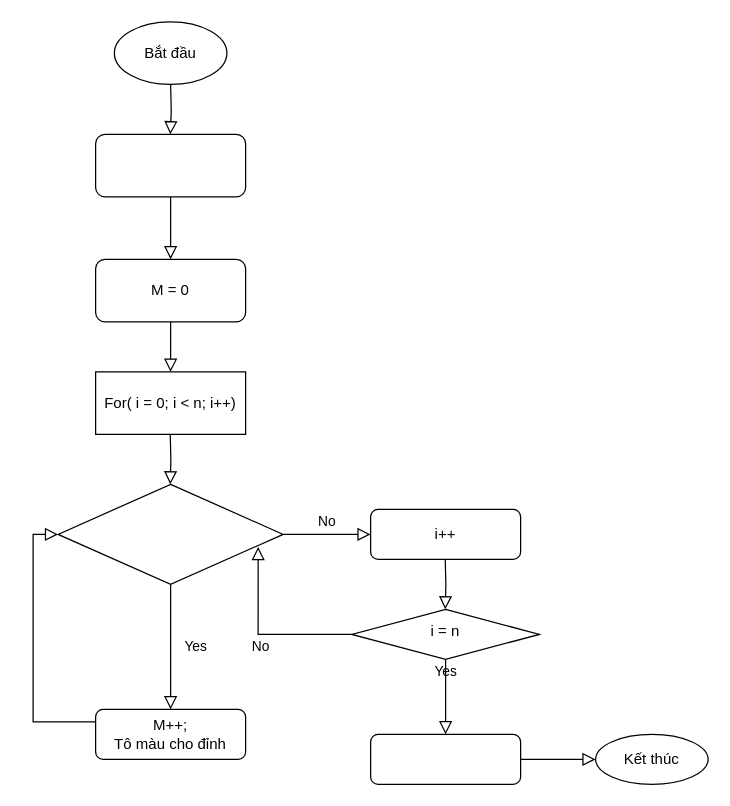
The diagram is 730 pixels wide and 806 high, and some of its shapes have lost their labels. Here are the shapes that lost their labels. From the top down, the box of each, then its label:
(94, 133, 246, 197): Sắp xếp các đỉnh theo thứ tự giảm dần của bậc
(57, 483, 283, 584): Đỉnh đầu tiên chưa tô có bậc lớn nhất
(369, 733, 521, 784): M là sắc tố
